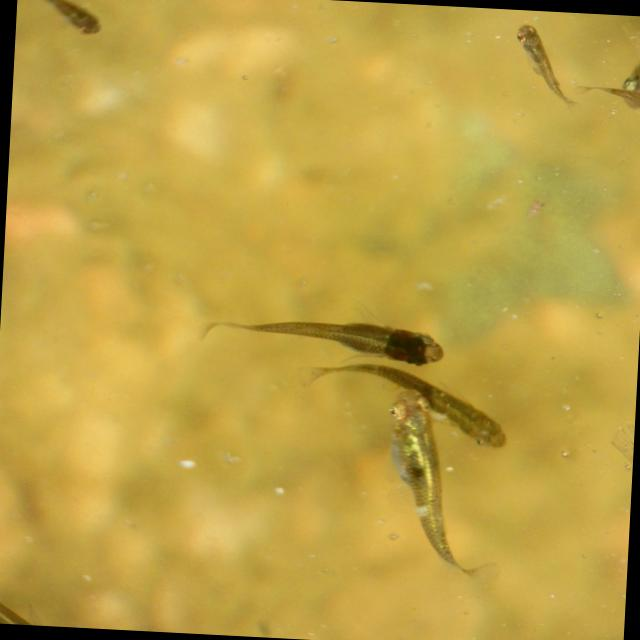Sivrisinek Baligi: (373, 400, 506, 584), (216, 310, 448, 368), (508, 22, 586, 108), (14, 0, 111, 45)
